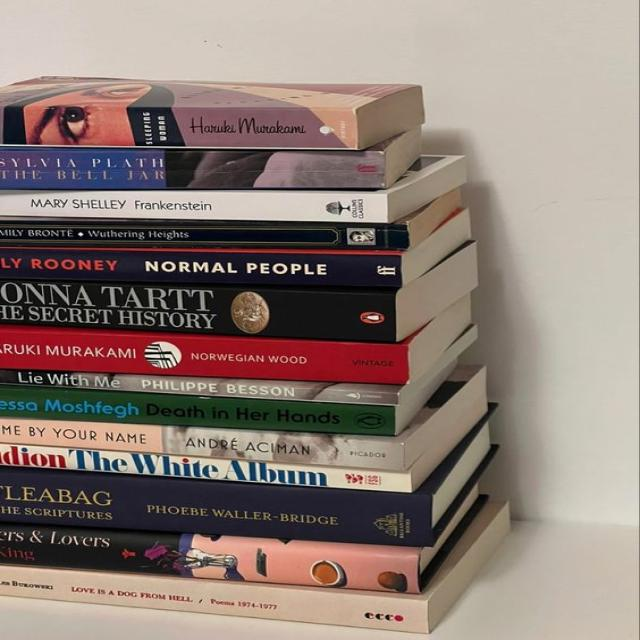book: (2, 519, 420, 595), (0, 470, 434, 543), (0, 567, 430, 628), (0, 280, 399, 341), (0, 416, 406, 473), (1, 330, 409, 382), (0, 443, 423, 492), (0, 385, 398, 436), (4, 104, 357, 149), (0, 367, 398, 406), (0, 147, 383, 184), (0, 188, 386, 222), (0, 251, 395, 279), (0, 222, 403, 248)
